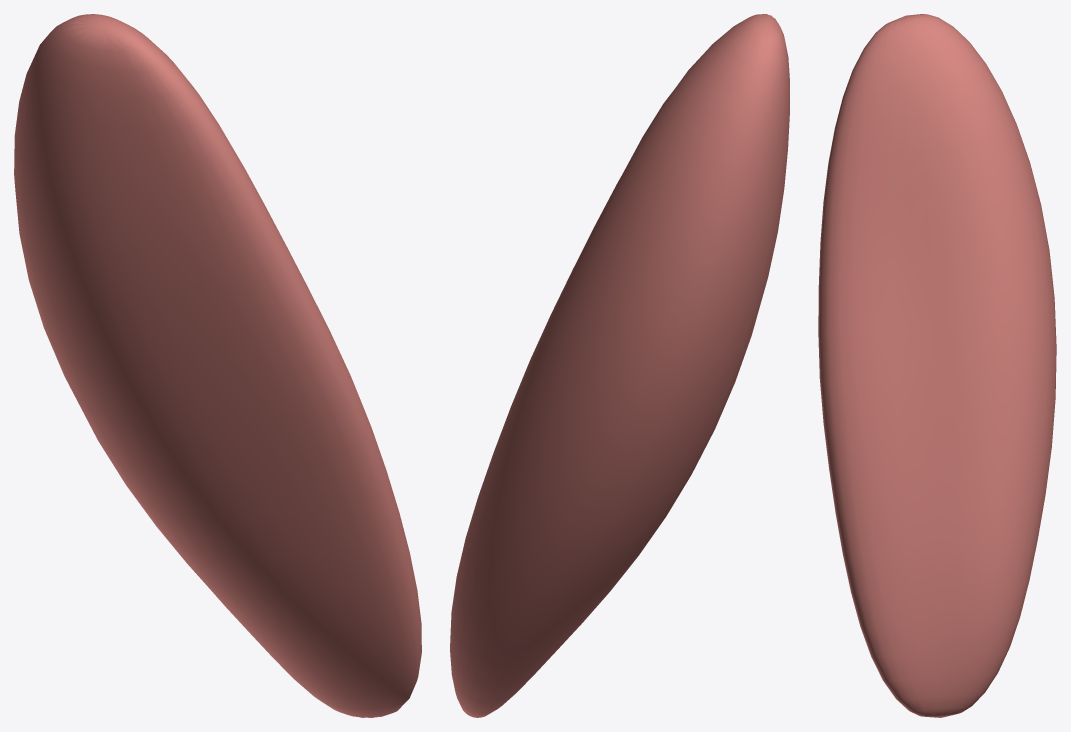
3 renders of one model, left to right at view 1: azimuth 30°, elevation 25°; view 2: azimuth 150°, elevation 25°; view 3: azimuth 270°, elevation 25°, orthographic. The views are drawn at different scales.
Parts seen in each view (by area): view 1: ZA_0284424347ccb10f; view 2: ZA_0284424347ccb10f; view 3: ZA_0284424347ccb10f.
Boxes of the visible parts, x1,y1,x2,y2 form: ZA_0284424347ccb10f: [14, 14, 421, 717]; ZA_0284424347ccb10f: [450, 14, 789, 717]; ZA_0284424347ccb10f: [818, 14, 1056, 717].
Size of the model in its own units: 0.0122 by 0.0262 by 0.00948.
